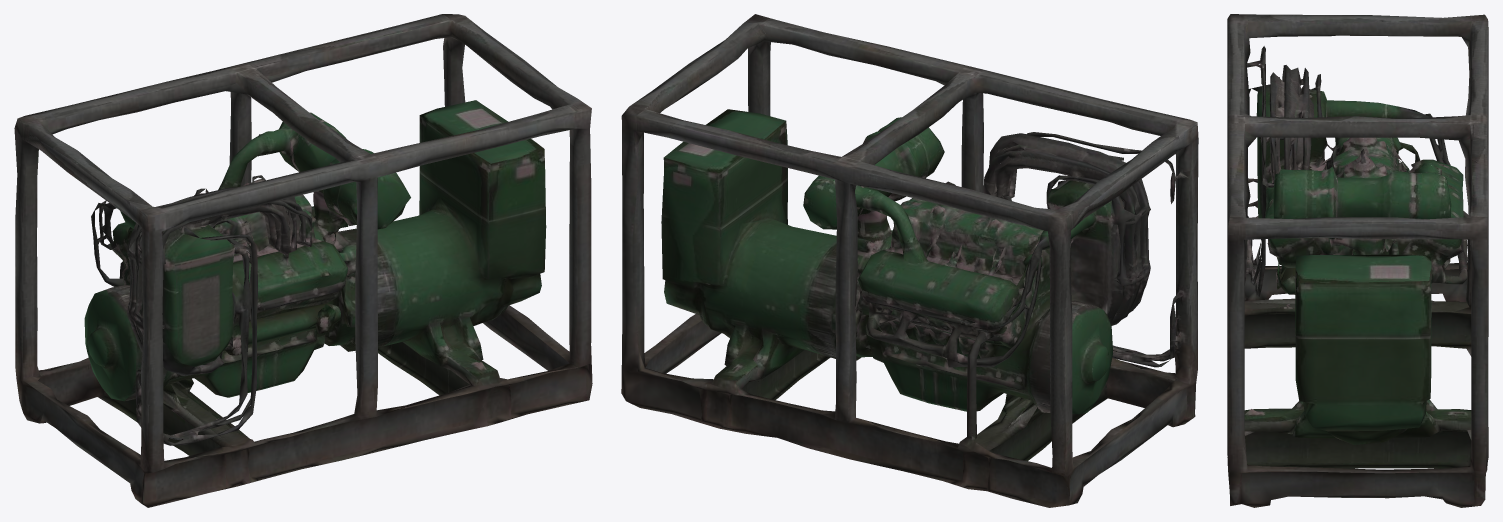
The model's file is prop_generator.glb.
3 views of the same model, side by side, from view 1: azimuth 30°, elevation 25°; view 2: azimuth 150°, elevation 25°; view 3: azimuth 270°, elevation 25° (orthographic). The views are drawn at different scales.
Bounding box in the file's own units: 0.9994 × 0.6304 × 0.5238.
Materials: 1 (1 with a texture image).
